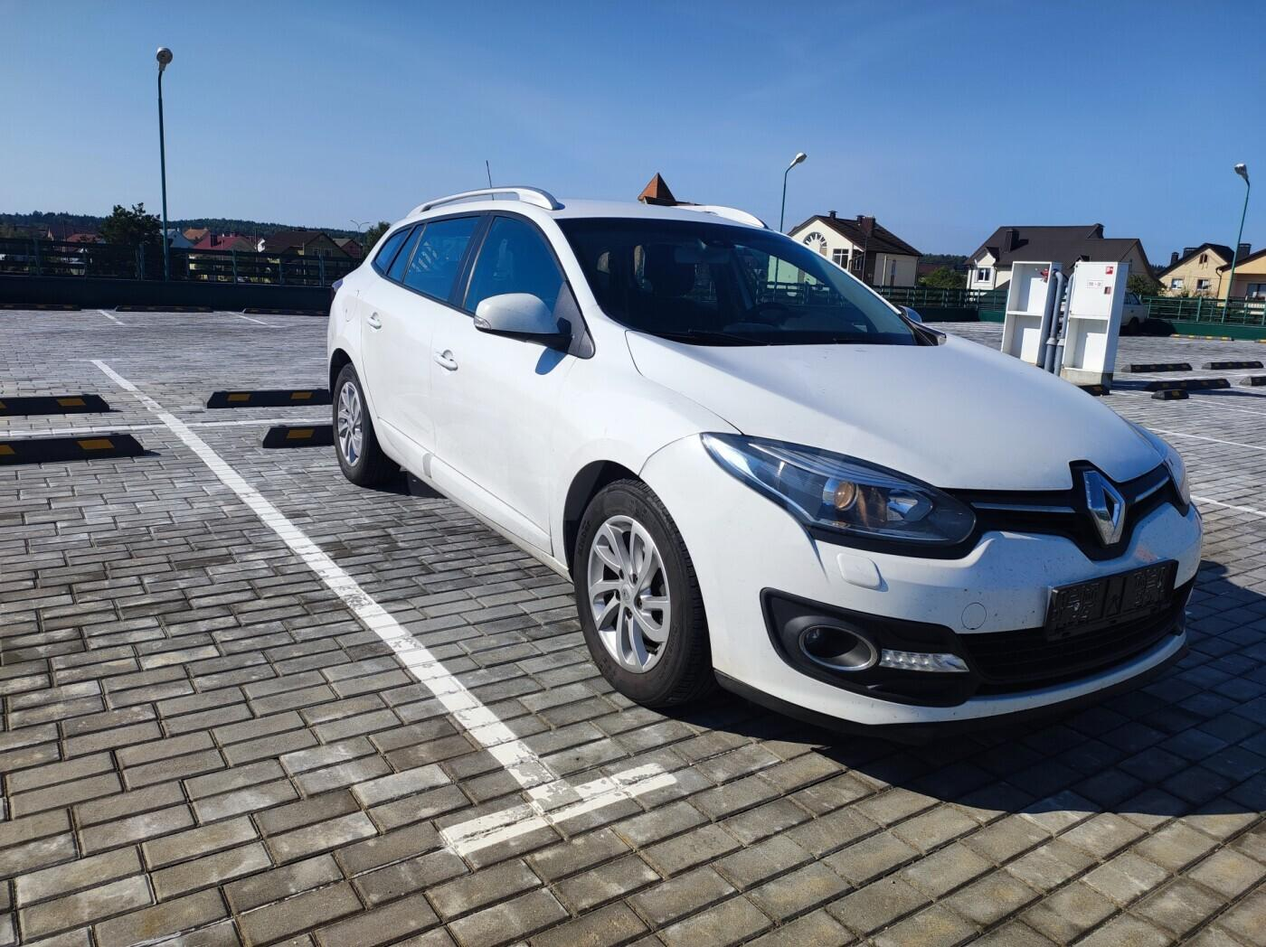Megane_2012-2014: (329, 191, 1219, 749)
